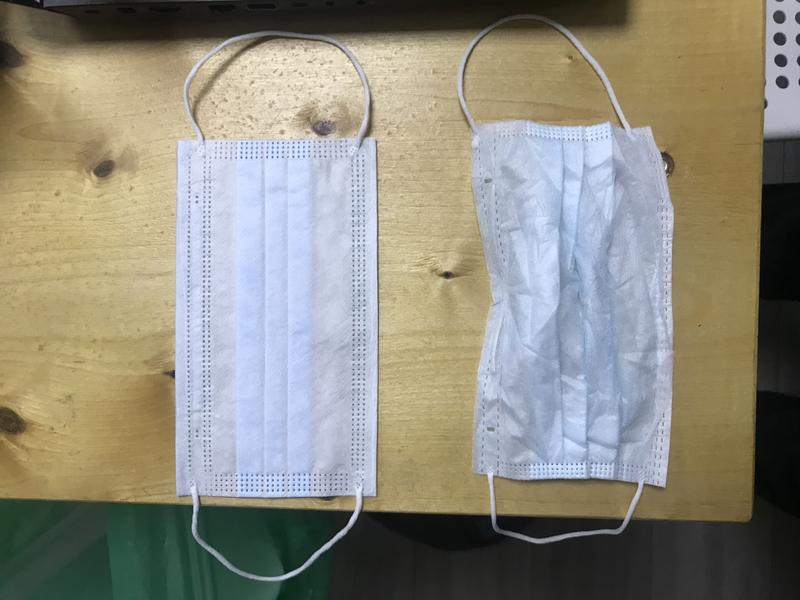medical_mask: (458, 14, 677, 545), (177, 32, 379, 583)
